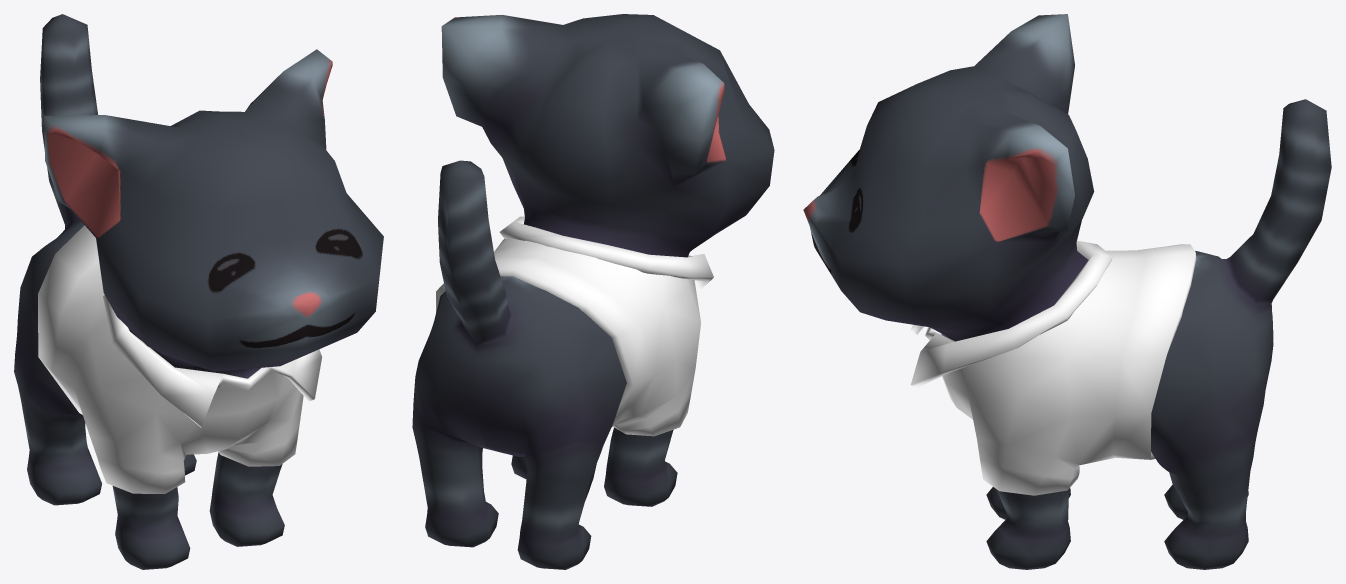
Rendered from Staff Cat04.fbx.
The picture shows the model from 3 angles, left to right: view 1: azimuth 30°, elevation 25°; view 2: azimuth 150°, elevation 25°; view 3: azimuth 270°, elevation 25°; orthographic projection. The views are drawn at different scales.
Parts seen in each view (by area): view 1: Cat_Base003, Staff_Cat_shirt; view 2: Cat_Base003, Staff_Cat_shirt; view 3: Cat_Base003, Staff_Cat_shirt.
Part boxes in pixels (x1=…): Cat_Base003: x1=14, y1=14, x2=383, y2=569; Staff_Cat_shirt: x1=38, y1=225, x2=321, y2=493; Cat_Base003: x1=412, y1=14, x2=774, y2=569; Staff_Cat_shirt: x1=436, y1=216, x2=713, y2=436; Cat_Base003: x1=803, y1=14, x2=1331, y2=569; Staff_Cat_shirt: x1=910, y1=240, x2=1196, y2=495.
Bounding box in the file's own units: 1.75 × 2.83 × 2.68.
Materials: 2 (1 with a texture image).
